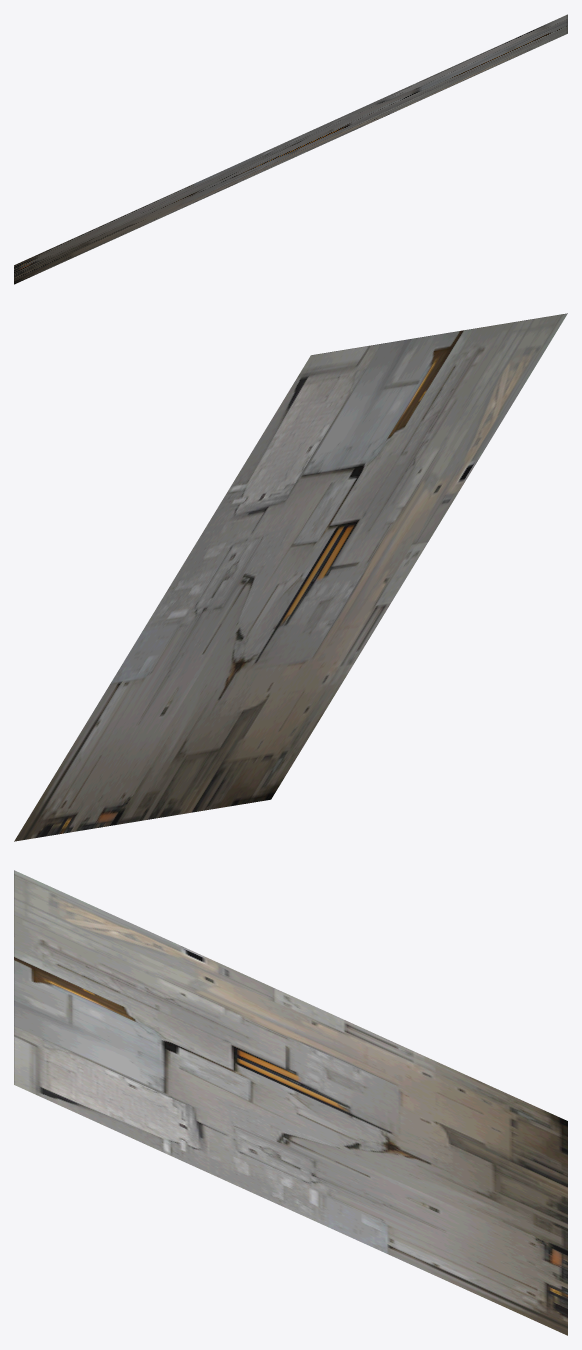
File: Schlucht4x8_SchrägLinks_2410.glb
The picture shows the model from 3 angles, top to bottom: view 1: azimuth 90°, elevation 25°; view 2: azimuth 150°, elevation 25°; view 3: azimuth 270°, elevation 25°; orthographic projection. The views are drawn at different scales.
Parts seen in each view (by area): view 1: pPlaneShape177; view 2: pPlaneShape177; view 3: pPlaneShape177.
Part boxes in pixels (bbox=[...]): pPlaneShape177: bbox=[14, 14, 567, 284]; pPlaneShape177: bbox=[14, 313, 567, 841]; pPlaneShape177: bbox=[14, 870, 567, 1335].
Bounding box in the file's own units: 1 × 1.39 × 2.
Materials: 1 (1 with a texture image).
